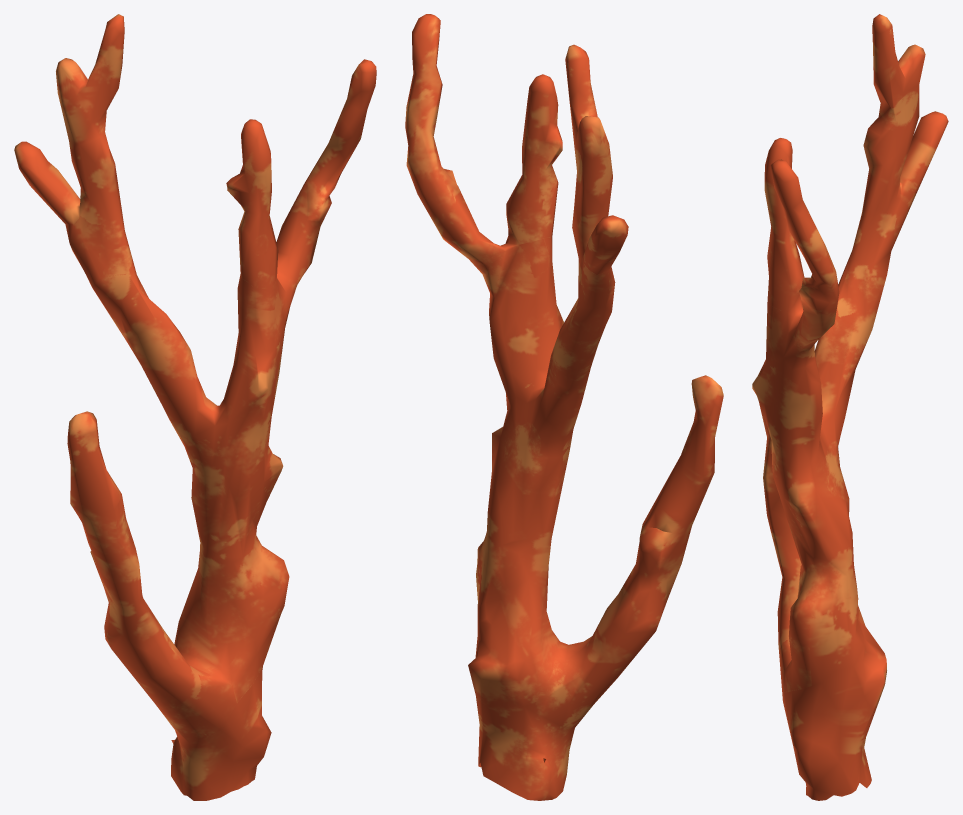
The model's file is orangeDSponge00b.fbx.
The picture shows the model from 3 angles, left to right: view 1: azimuth 30°, elevation 25°; view 2: azimuth 150°, elevation 25°; view 3: azimuth 270°, elevation 25°; orthographic projection. The views are drawn at different scales.
Parts seen in each view (by area): view 1: orangeDevilsSponge00b_final; view 2: orangeDevilsSponge00b_final; view 3: orangeDevilsSponge00b_final.
Boxes of the visible parts, box(x1,y1,x2,y2) form: orangeDevilsSponge00b_final: box(14, 14, 376, 800); orangeDevilsSponge00b_final: box(405, 14, 723, 800); orangeDevilsSponge00b_final: box(752, 14, 948, 800).
Bounding box in the file's own units: 0.281 × 0.6774 × 0.1613.
Materials: 1 (1 with a texture image).
